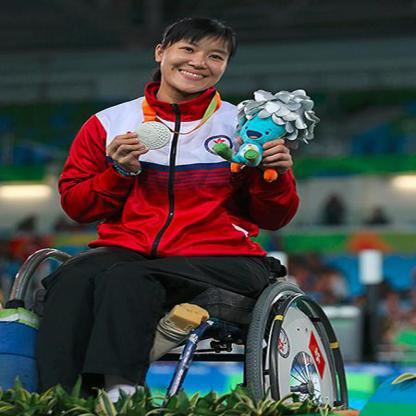wheelchair: (10, 16, 350, 414)
